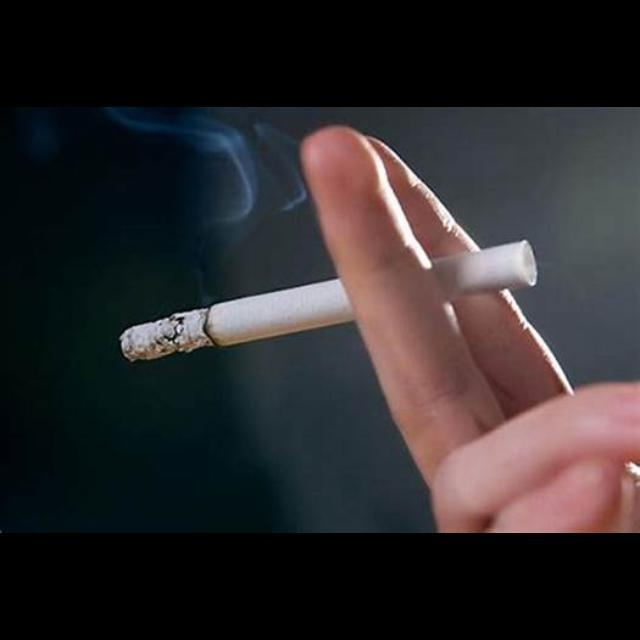rokok: (114, 249, 372, 379)
